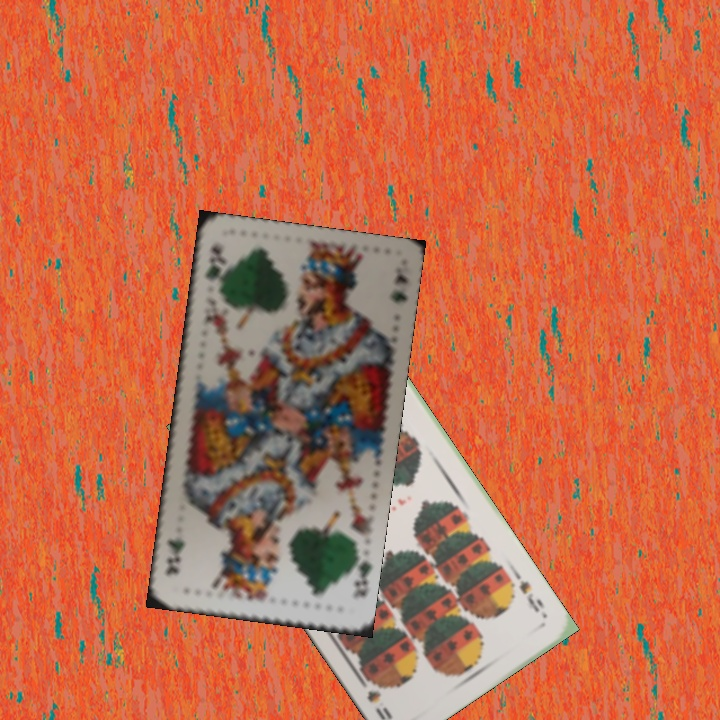GK: (344, 549, 374, 600), (201, 239, 227, 297)
S9: (515, 576, 547, 615)
